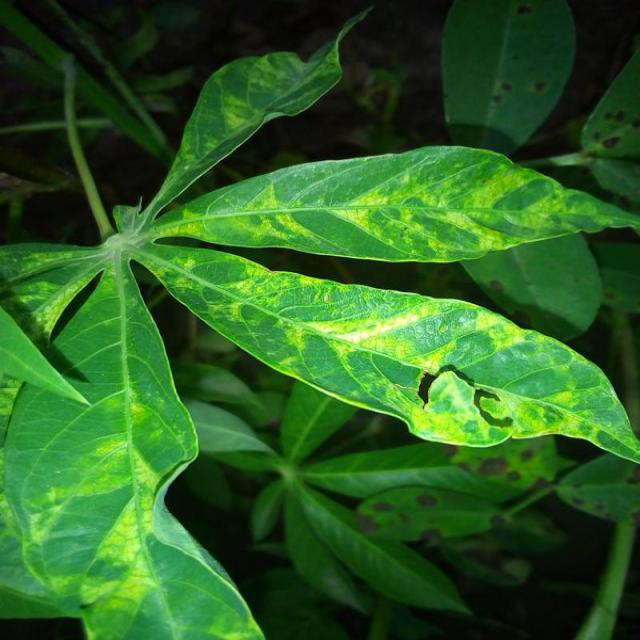cassava leaf: (2, 8, 639, 637), (132, 238, 640, 465)
